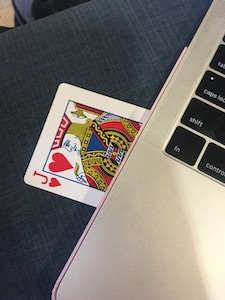JackOfHearts: (19, 78, 151, 208)
